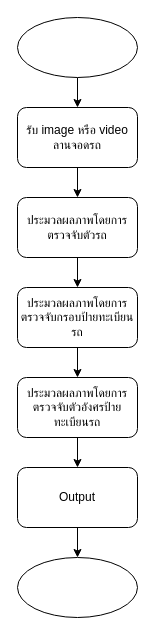
This 155x635 diagram has some shape labels left out. Here are the shapes that lost their labels. From the top down, the centre of each, then its label:
At point (77, 47): "Start".
At point (77, 587): "End".
